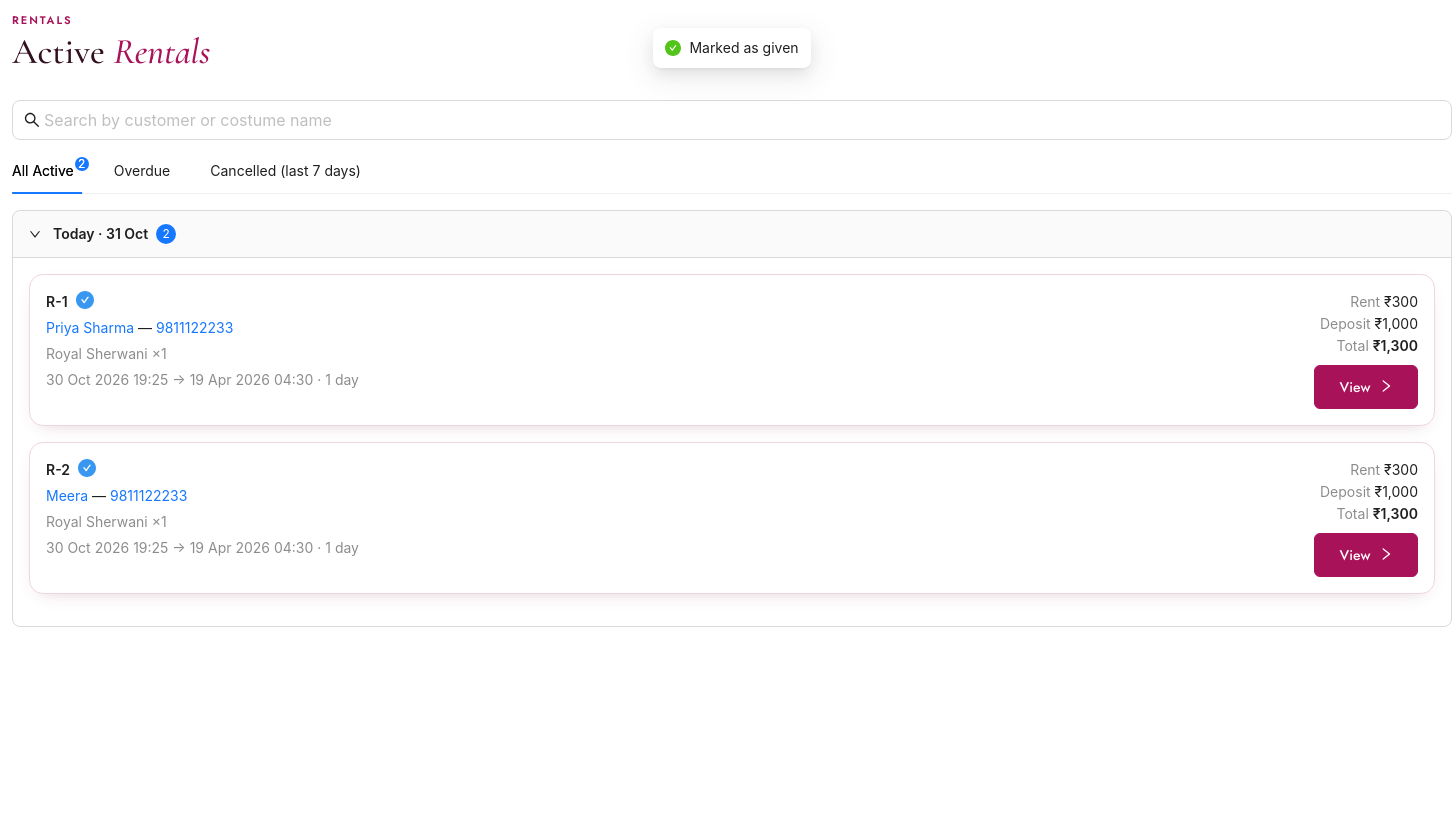
Scenario: ReceiptsPage search by customer or costume name › keeps only the rentals whose customer name matches
Step 1. Type "priya" into the field named "Search rentals" → (734, 120), box [44, 108, 1424, 132]
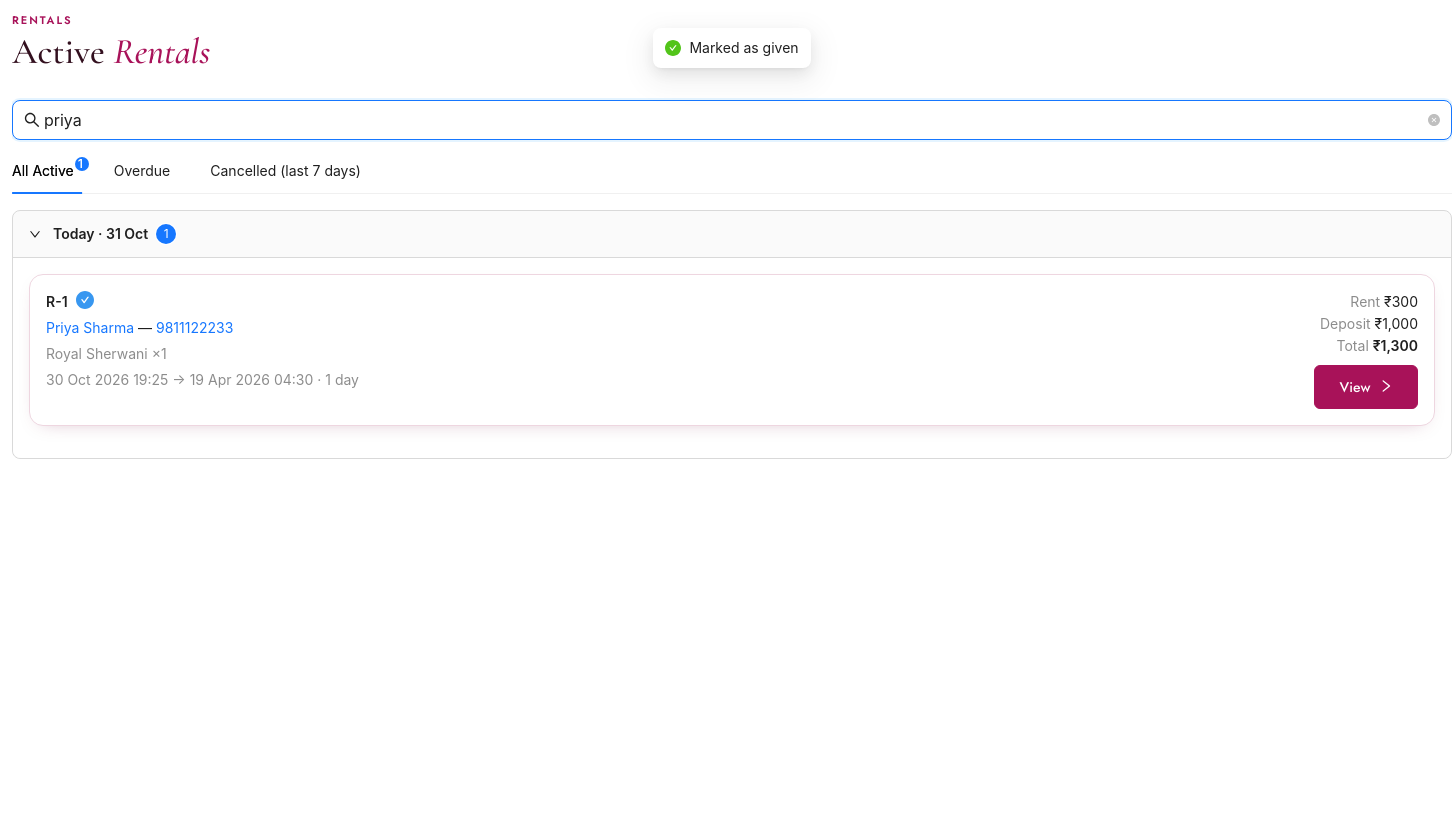
Check: the text "R-1" is shown, box [46, 293, 68, 310]
Check: the text "R-2" is gone
